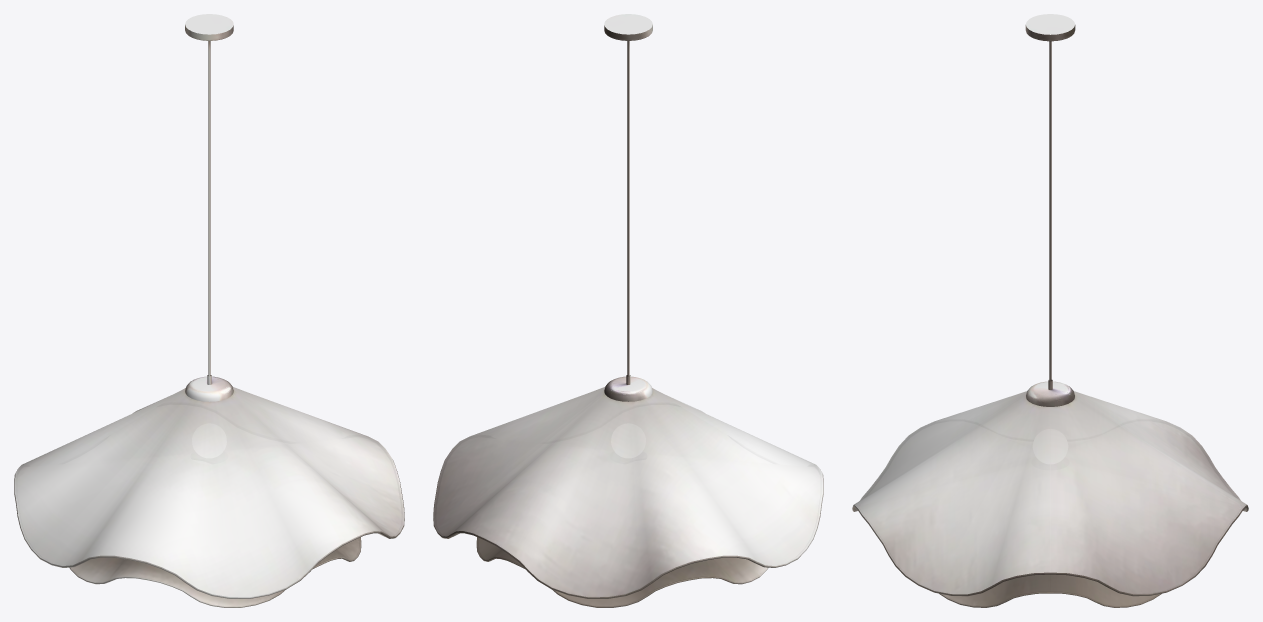
Rendered from pendant_caroline.glb.
3 renders of one model, left to right at view 1: azimuth 30°, elevation 25°; view 2: azimuth 150°, elevation 25°; view 3: azimuth 270°, elevation 25°, orthographic.
Visible parts, largest first — view 1: polySurface3_lambert13_0, chord_lambert12_0; view 2: polySurface3_lambert13_0, chord_lambert12_0; view 3: polySurface3_lambert13_0, chord_lambert12_0.
Boxes of the visible parts, box(x1,y1,x2,y2) form: polySurface3_lambert13_0: box(14, 387, 404, 607); chord_lambert12_0: box(185, 14, 233, 401); polySurface3_lambert13_0: box(433, 387, 823, 607); chord_lambert12_0: box(604, 14, 652, 401); polySurface3_lambert13_0: box(852, 391, 1248, 607); chord_lambert12_0: box(1025, 14, 1075, 406).
Bounding box in the file's own units: 0.5792 × 0.85 × 0.5785.
3 materials, 3 textured.
